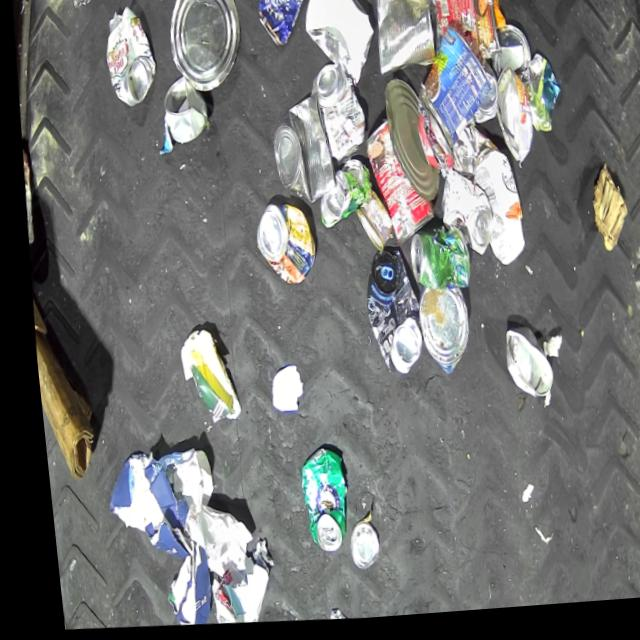can: (405, 26, 493, 157), (356, 121, 434, 250), (352, 252, 420, 382), (263, 93, 337, 209), (160, 0, 245, 98), (377, 81, 439, 208), (303, 65, 366, 168), (97, 4, 158, 110), (283, 448, 341, 559), (245, 203, 313, 291), (369, 0, 437, 84), (429, 171, 490, 264), (406, 291, 466, 382), (425, 0, 501, 67), (398, 229, 464, 299), (487, 70, 532, 172), (491, 333, 547, 412), (309, 161, 368, 234), (156, 75, 207, 144), (252, 0, 315, 54), (346, 193, 389, 256), (485, 28, 531, 86), (466, 66, 497, 131), (15, 148, 33, 248), (334, 524, 369, 575)
